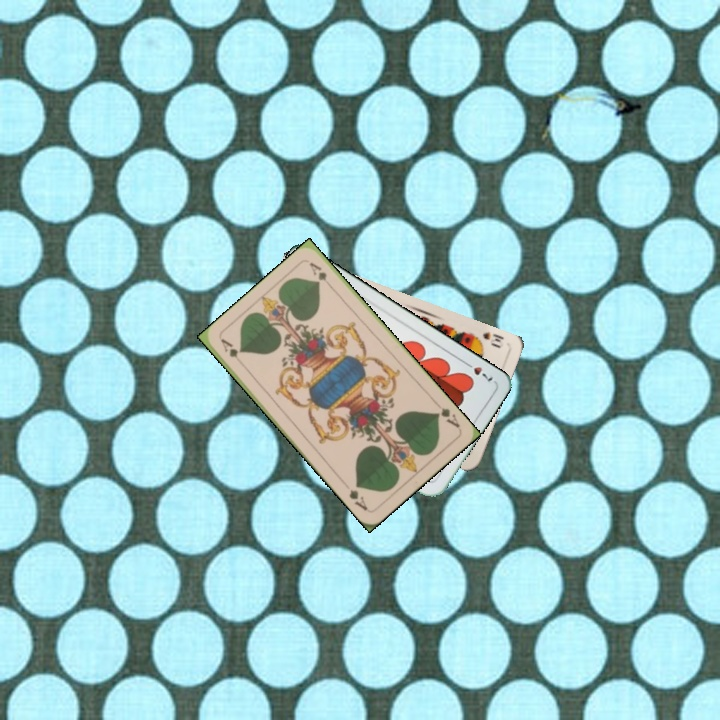GA: (431, 398, 463, 431), (217, 335, 246, 369)
H7: (460, 357, 496, 384)
S10: (469, 328, 507, 351)
